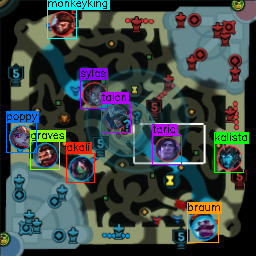akali: (68, 155, 92, 181)
braum: (192, 216, 216, 240)
graves: (33, 143, 57, 167)
kalista: (216, 145, 240, 169)
monkeyking: (49, 9, 75, 35)
poppy: (8, 124, 33, 149)
sylas: (81, 82, 105, 107)
talon: (104, 106, 127, 131)
taric: (153, 136, 179, 161)
